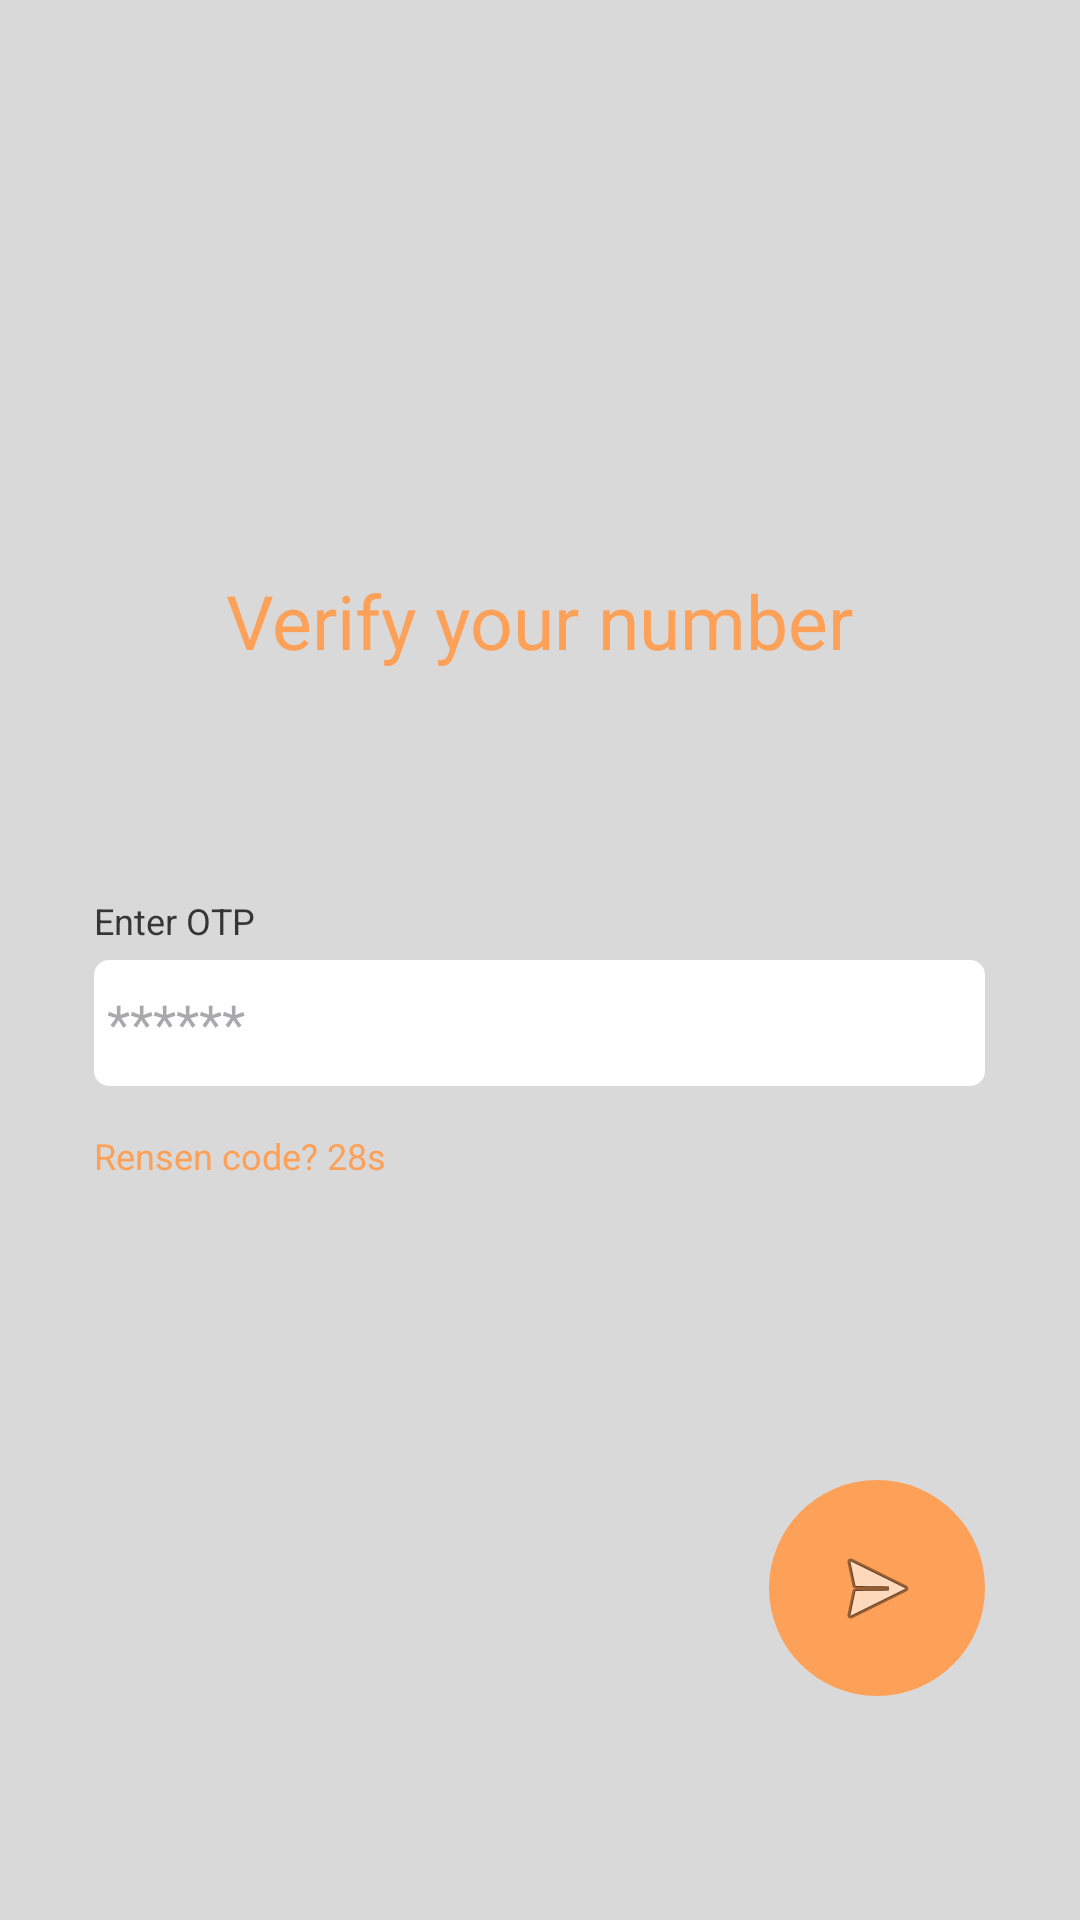

Icons on this 1080×1920 Android screen, each with its box as (x1, y1, x2, y2):
send: (769, 1480, 985, 1696)
